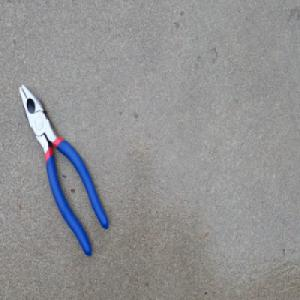Pliers: (18, 82, 109, 256)
